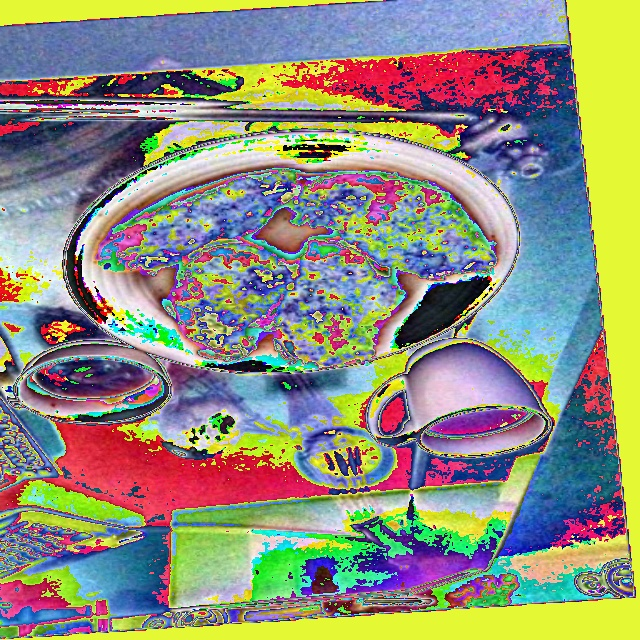background: (107, 30, 531, 438), (92, 170, 498, 369), (34, 43, 154, 401)
